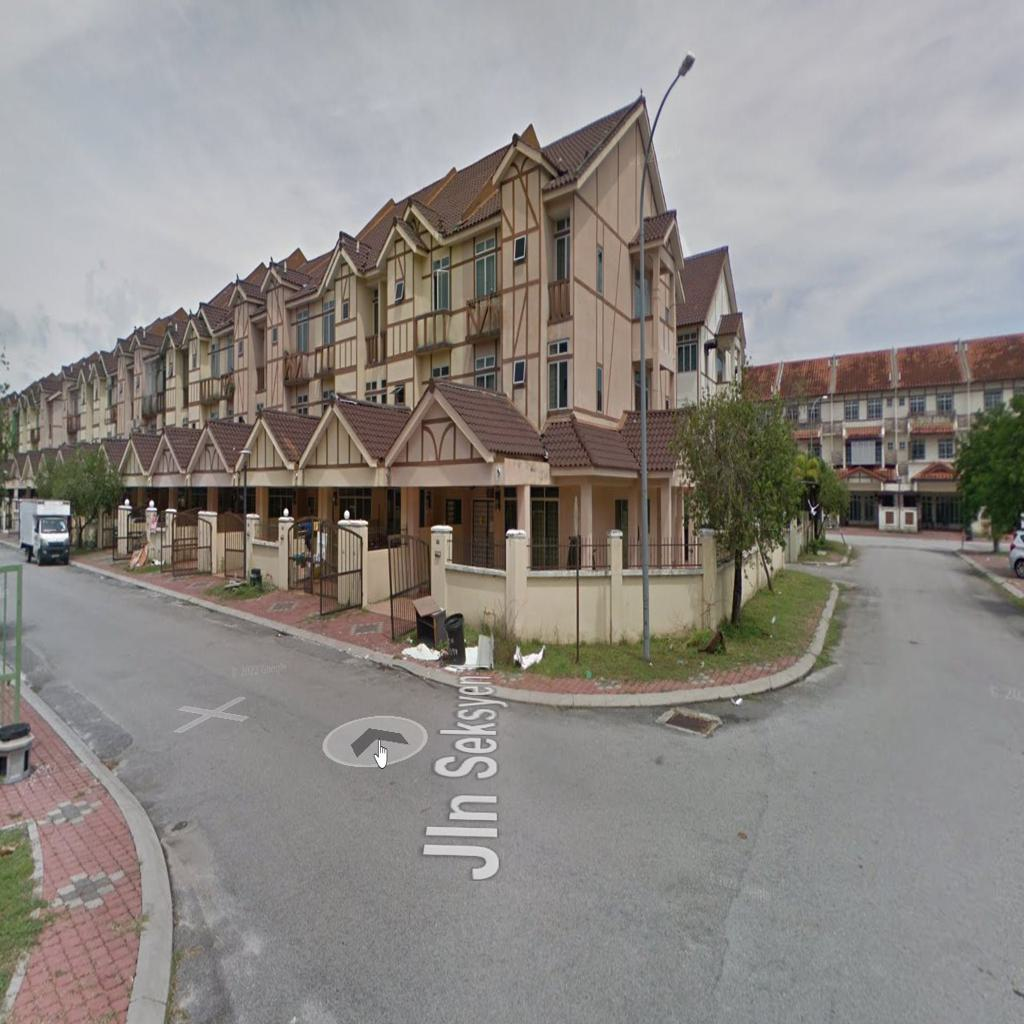Junction: (41, 617, 790, 984)
